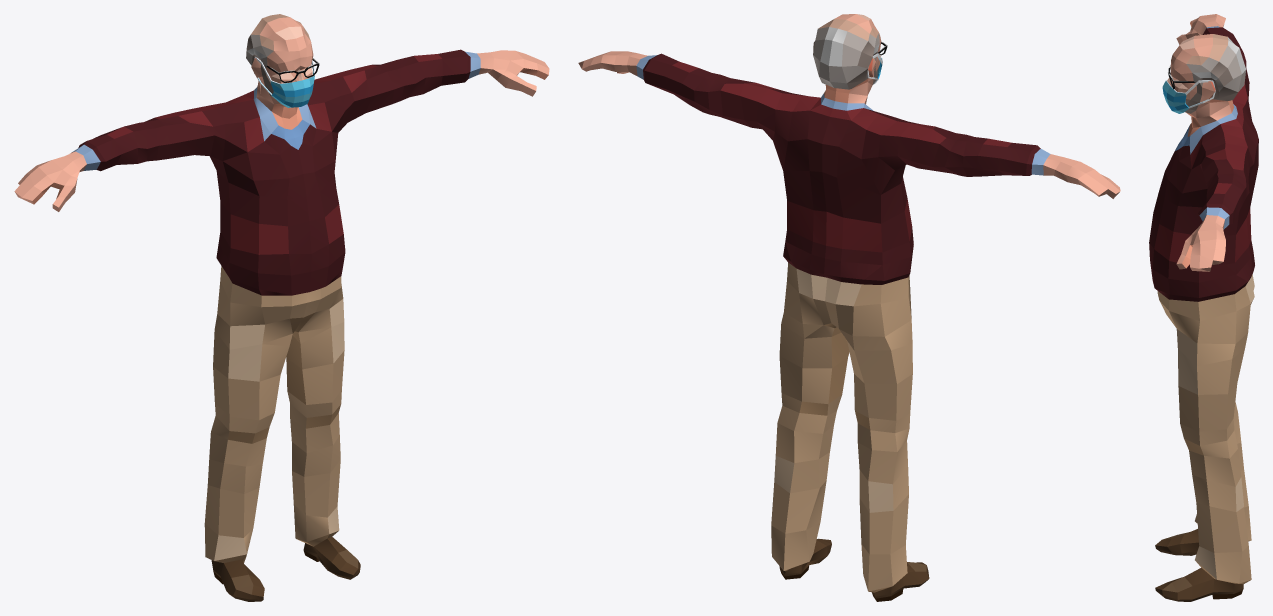
File: office_Male_B-model.obj
The picture shows the model from 3 angles, left to right: view 1: azimuth 30°, elevation 25°; view 2: azimuth 150°, elevation 25°; view 3: azimuth 270°, elevation 25°; orthographic projection. The views are drawn at different scales.
Visible parts, largest first — view 1: office_Male_B, acc_mask_blue; view 2: office_Male_B; view 3: office_Male_B, acc_mask_blue.
Part boxes in pixels (left/top/right/bottom): office_Male_B: left=14, top=14, right=549, bottom=601; acc_mask_blue: left=254, top=57, right=314, bottom=107; office_Male_B: left=578, top=14, right=1120, bottom=601; office_Male_B: left=1149, top=14, right=1258, bottom=601; acc_mask_blue: left=1162, top=79, right=1215, bottom=113.
Size of the model in its own units: 168 by 168 by 31.09.
